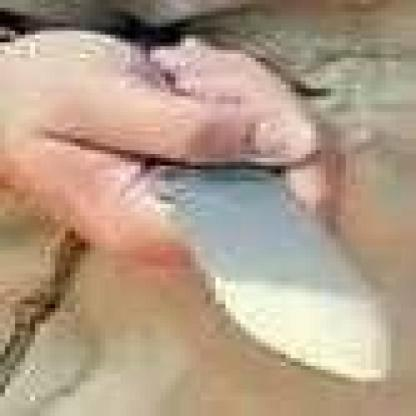Knife: (148, 111, 406, 395)
